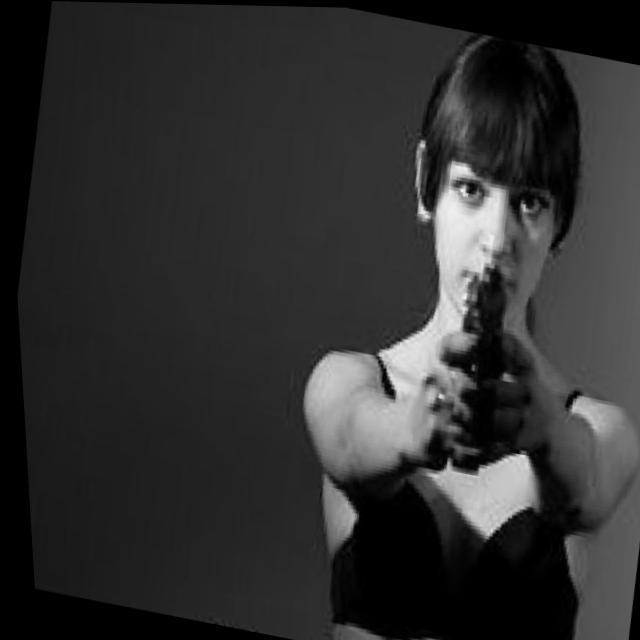weapon: (423, 256, 524, 473)
